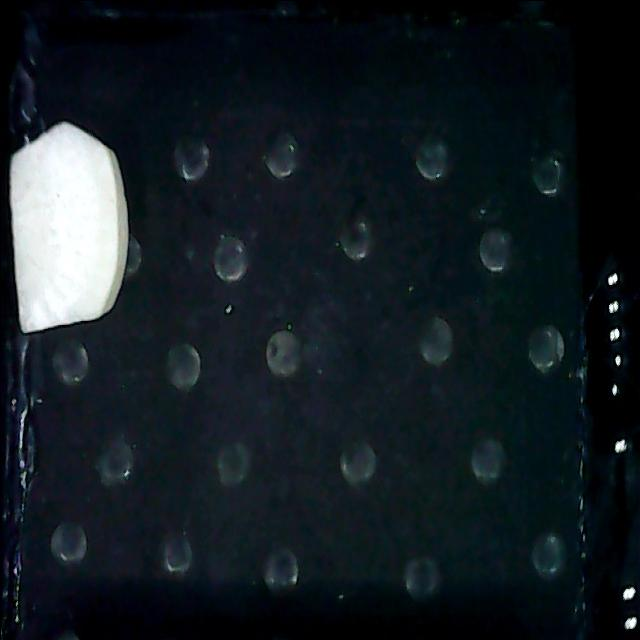-Kitchen waste - white radish-: (5, 115, 132, 330)
